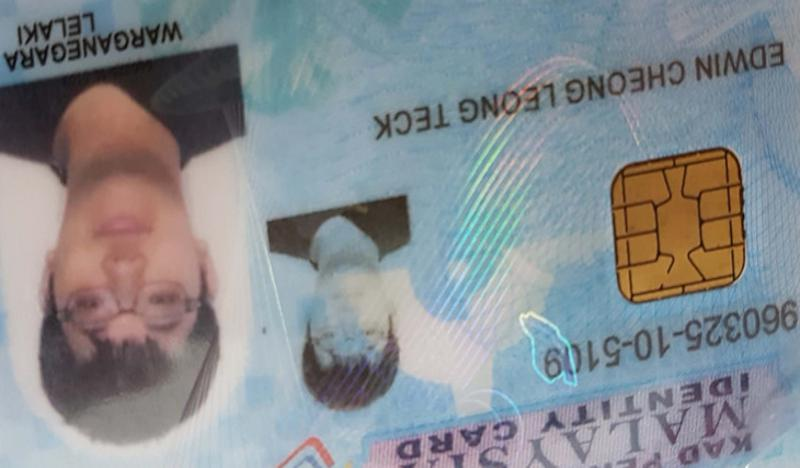hologram: (422, 130, 556, 311)
